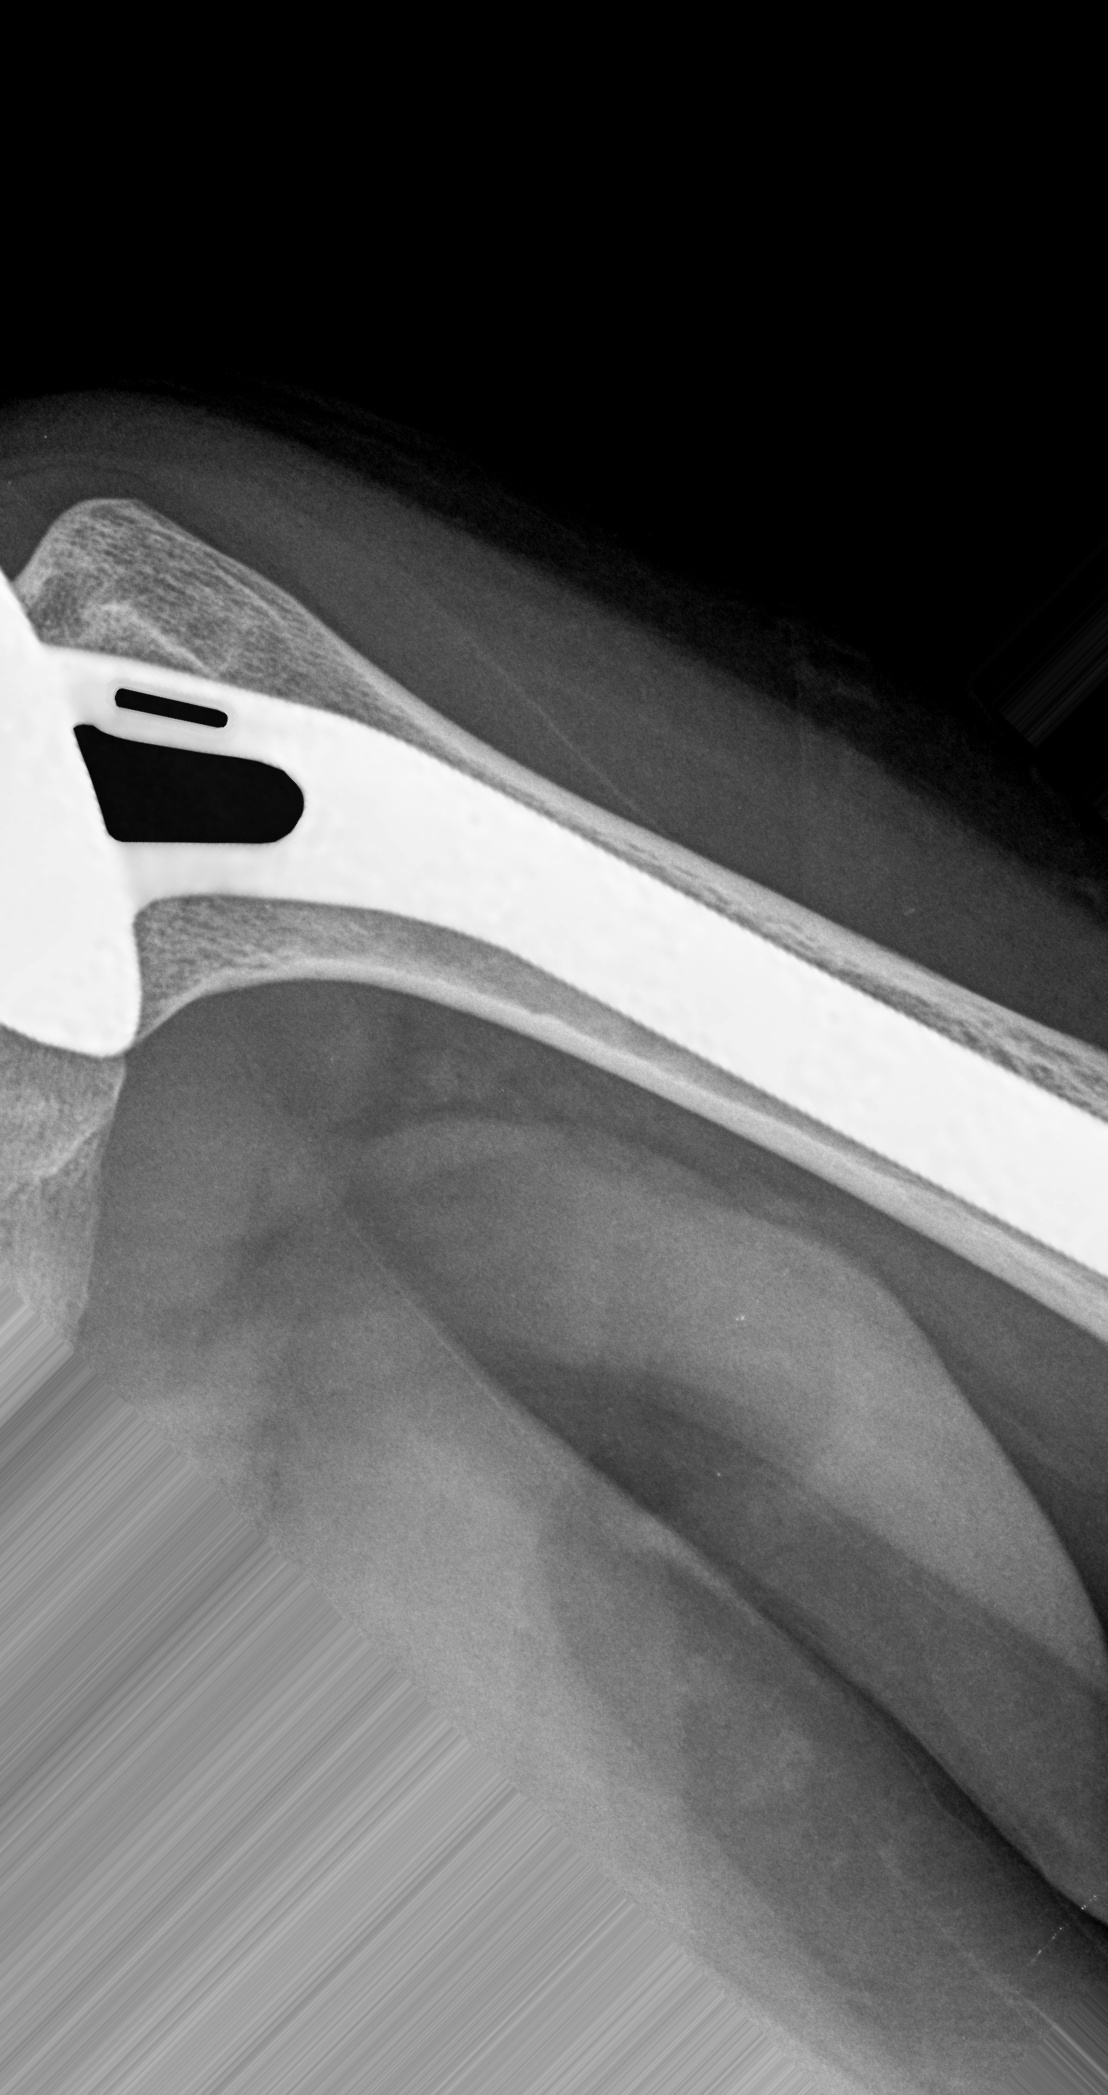Shoulder - AequalisFracture - Tornier: (1, 560, 332, 1096)
